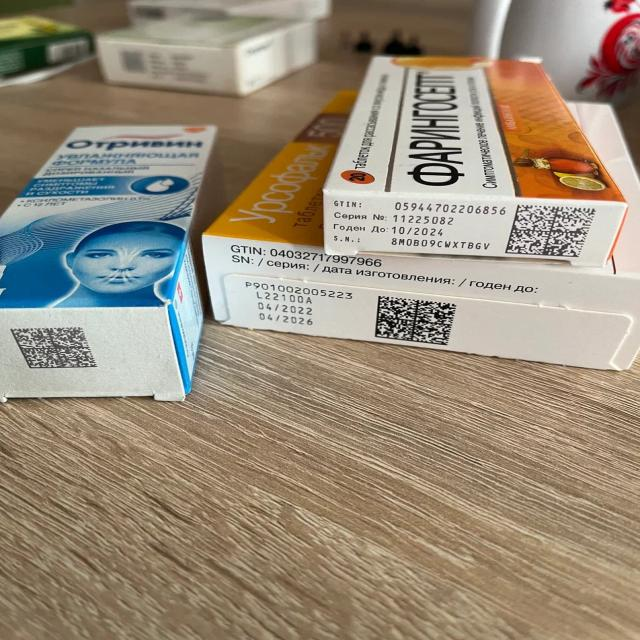datamatrix: (506, 204, 598, 261), (373, 295, 459, 348), (10, 326, 100, 371)
